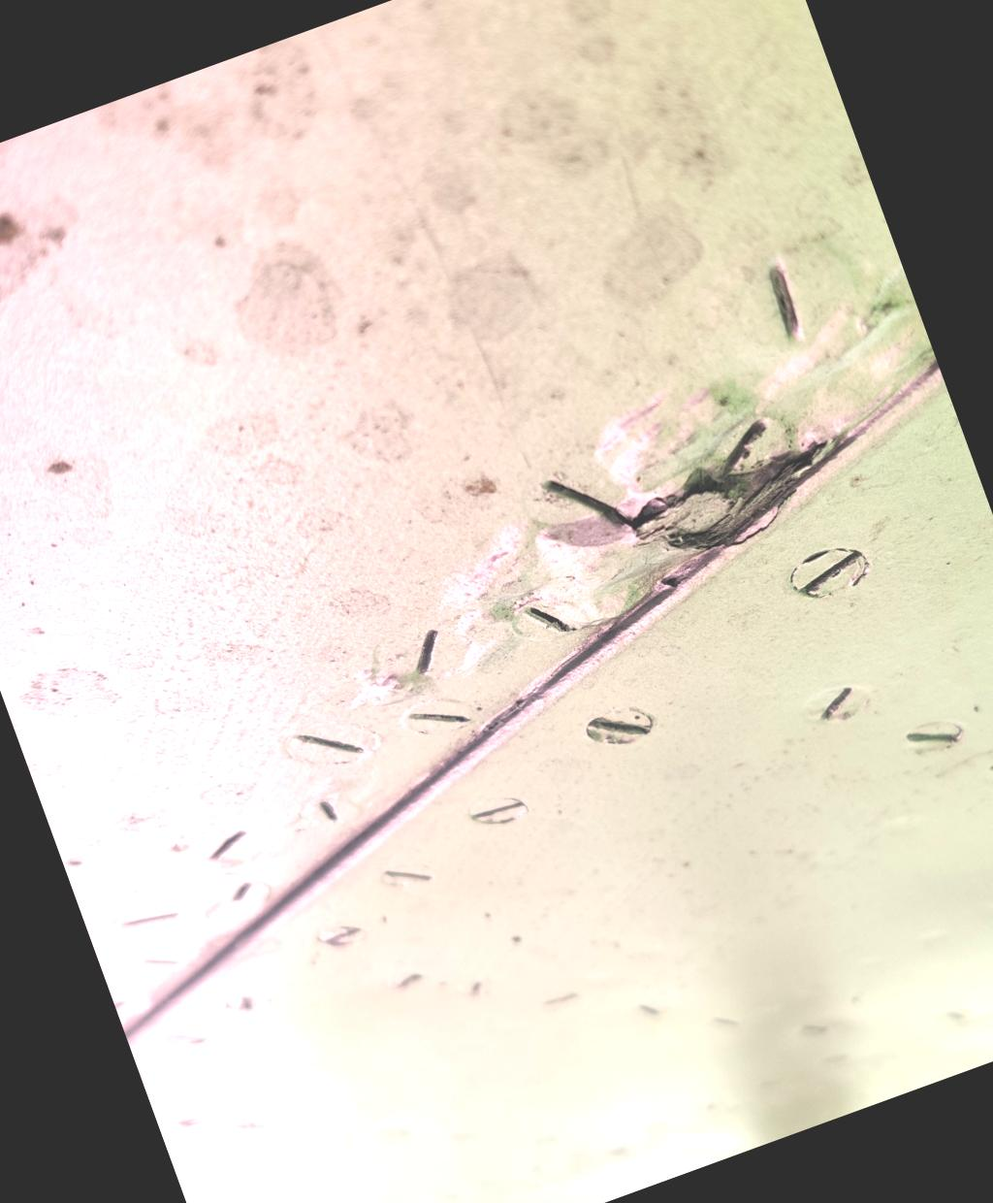corrosion: (599, 399, 849, 584)
